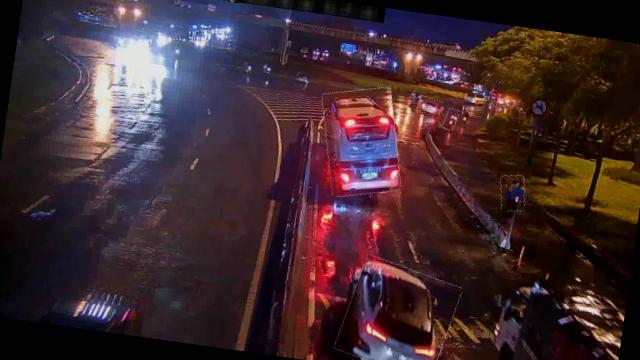Bike: (497, 173, 528, 212), (442, 108, 458, 132)
Bus: (314, 82, 410, 202)
Car: (335, 256, 460, 360), (417, 96, 442, 116)
